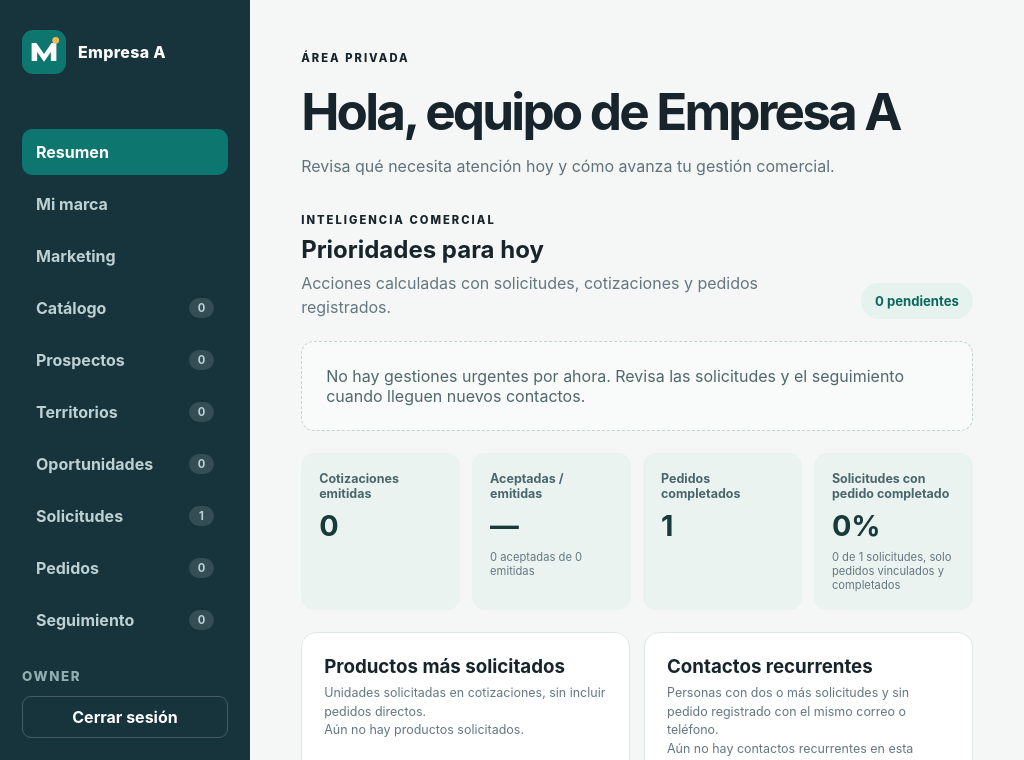
Test: multi-tenant application routes › links an order to a matching request and updates measured conversion
The width and height of the screenshot is (1024, 760).
Expected: the text "0 de 1 solicitudes, solo pedidos vinculados y completados" is shown, top-left (832, 550), bottom-right (955, 592)
Click the button "Pedidos 0" at [125, 568], box top-left (22, 545), bottom-right (228, 591)
(page scrolled)
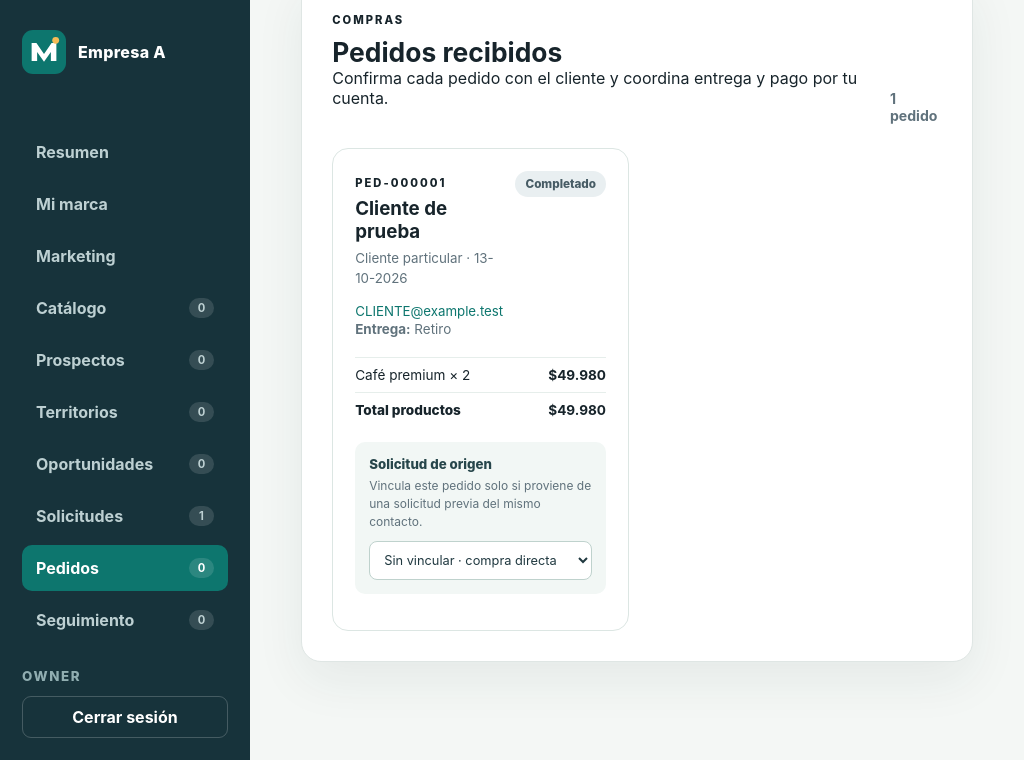
Select "Solicitud sin cotización · Cliente de prueba · 12-10-2026" in the dropdown labelled "Solicitud de origen" at [481, 561], box top-left (369, 541), bottom-right (592, 580)
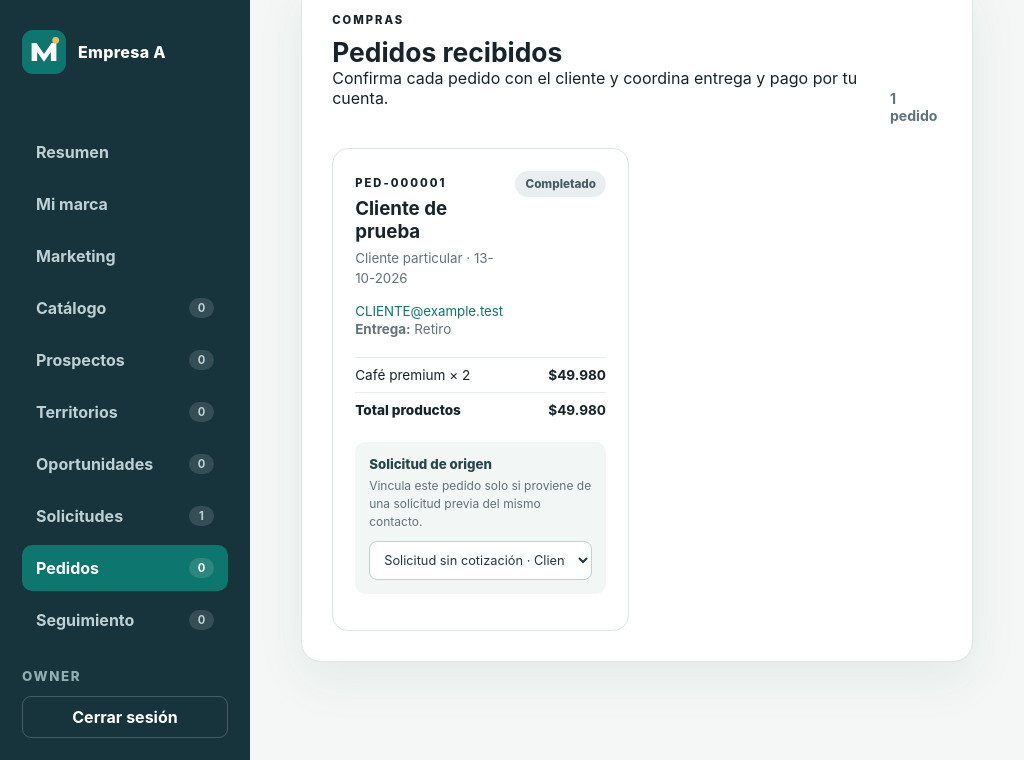
Click the button "Resumen" at [125, 152], box top-left (22, 129), bottom-right (228, 175)
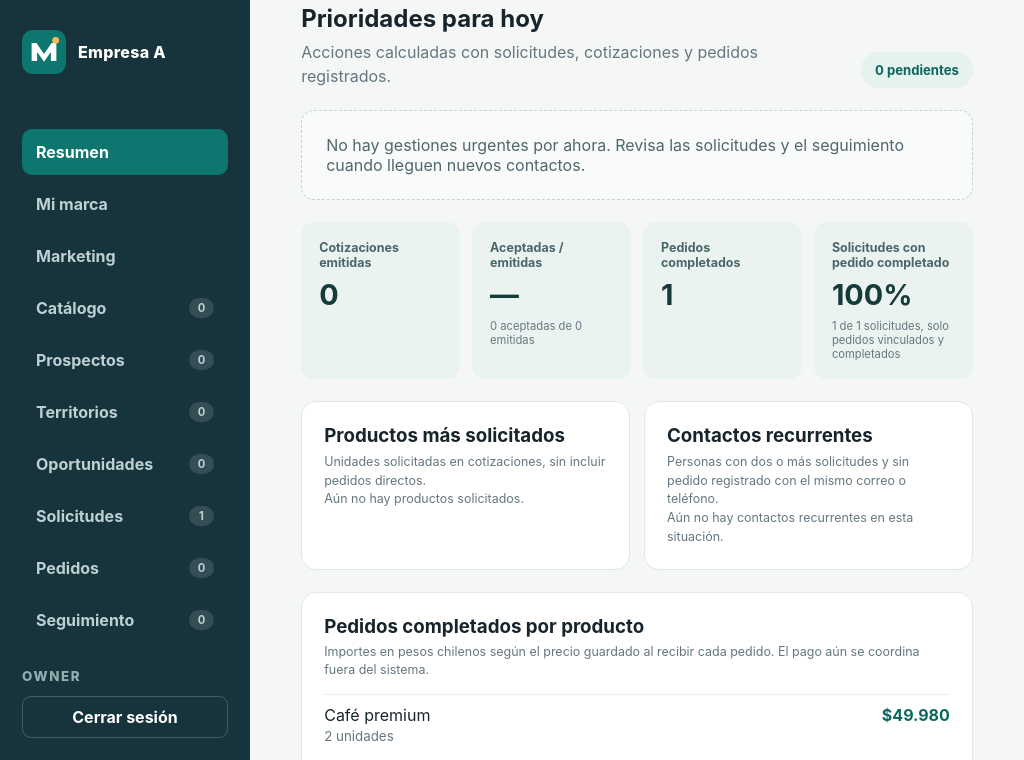
Expected: the text "$49.980" is shown, top-left (882, 705), bottom-right (950, 725)
Now the text "1 de 1 solicitudes, solo pedidos vinculados y completados" is shown, box top-left (832, 319), bottom-right (955, 361)
